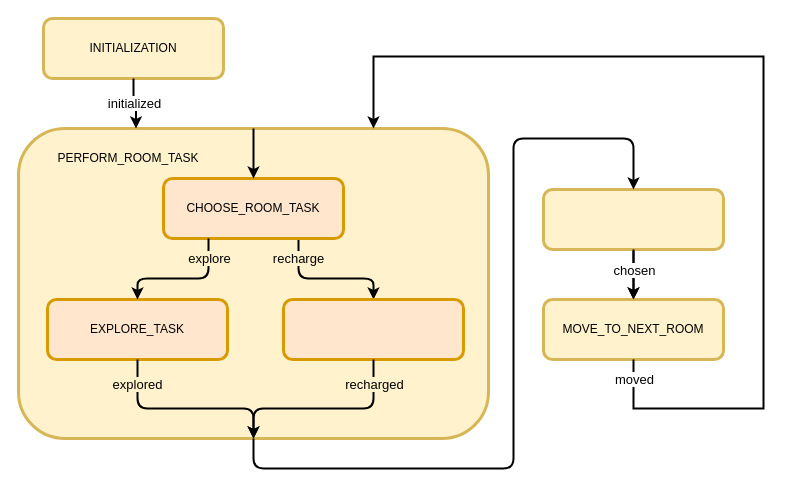
The diagram is 790 pixels wide and 495 high, and some of its shapes have lost their labels. The box of each missing label's shape, as (x1, y1, x2, y2) in pixels:
CHOOSE_NEXT_ROOM: (542, 188, 724, 250)
RECHARGE_TASK: (282, 298, 464, 360)
